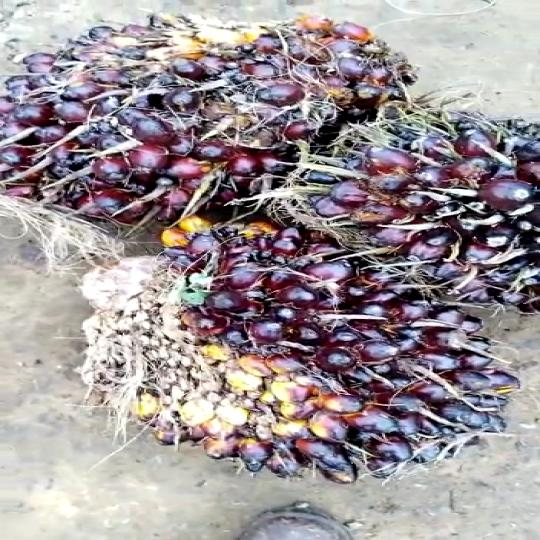kurang masak: (52, 215, 507, 488), (0, 10, 422, 230), (262, 110, 540, 318)
